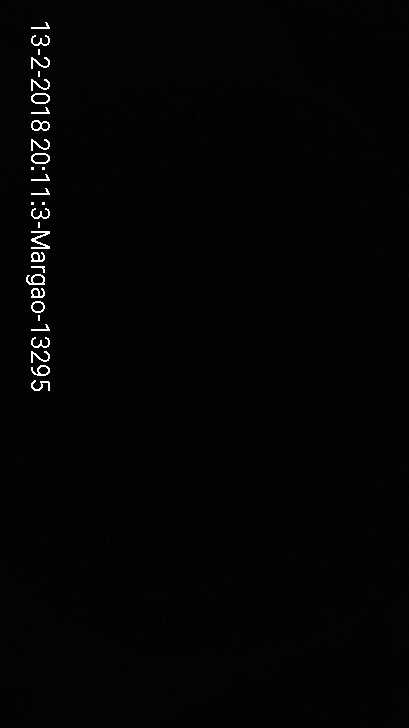reject: (191, 171, 286, 347)
